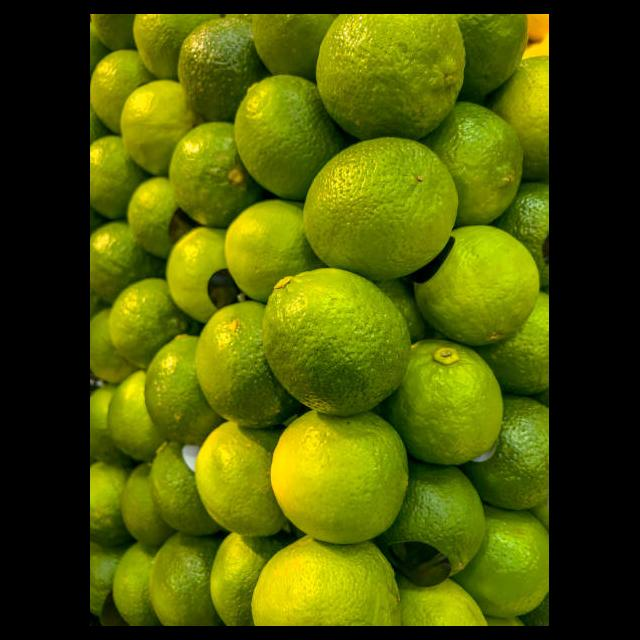lime: (302, 138, 458, 283), (270, 412, 410, 549)
